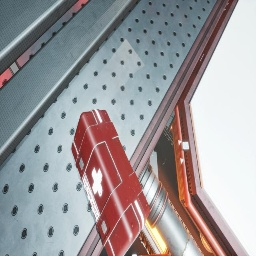FirstAidBox ,: (71, 109, 150, 256)
